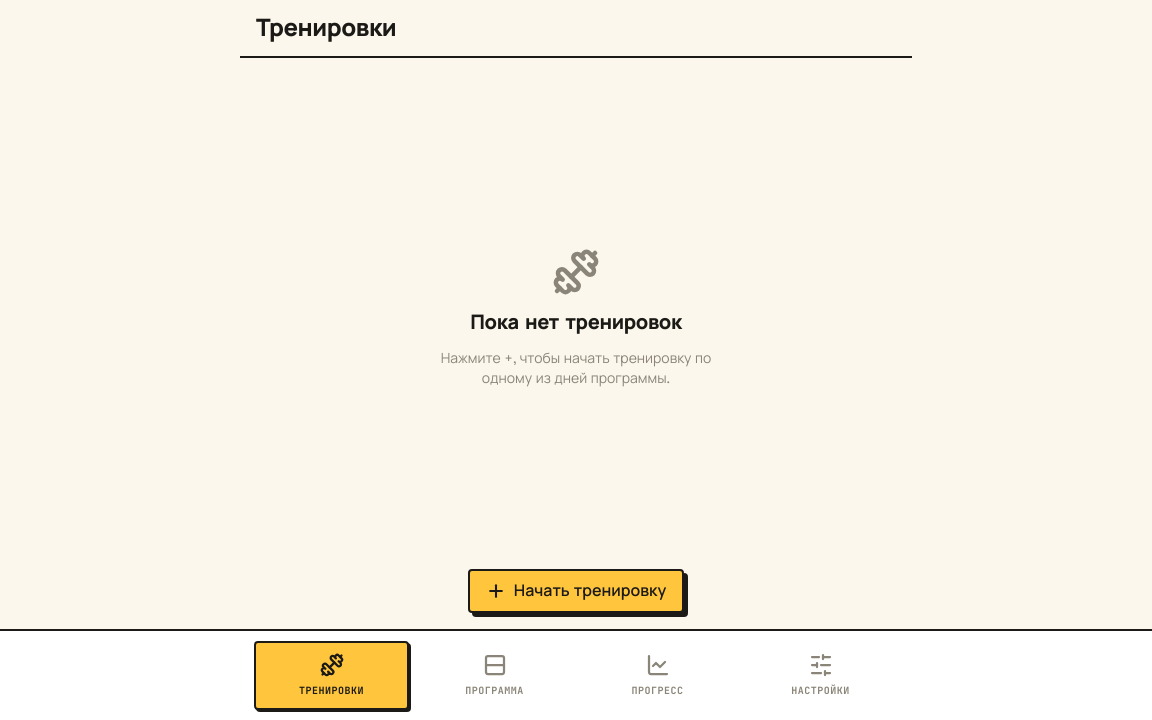
Scenario: Inline workout loop › starts a session, logs a set and marks it done
This screenshot has width=1152, height=720.
Click the button "Начать тренировку". click: (576, 591)
box: [468,569,684,613]
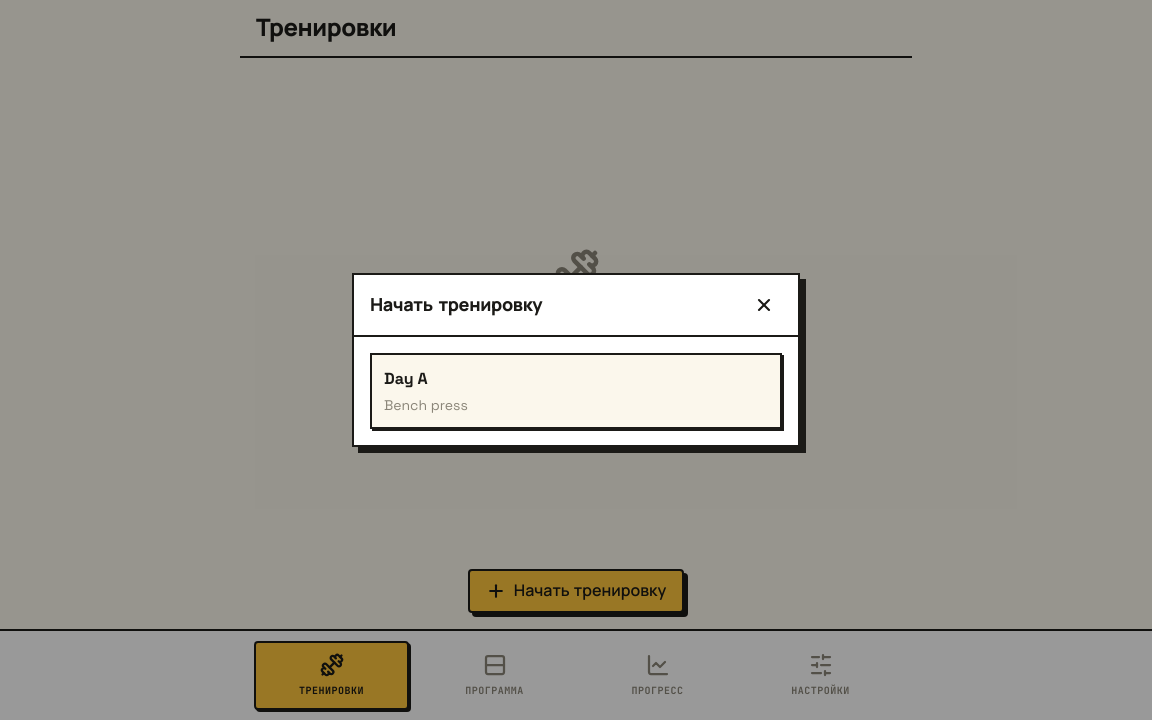
Click the button "Day A Bench press". click: (406, 378)
box: [370,353,782,429]
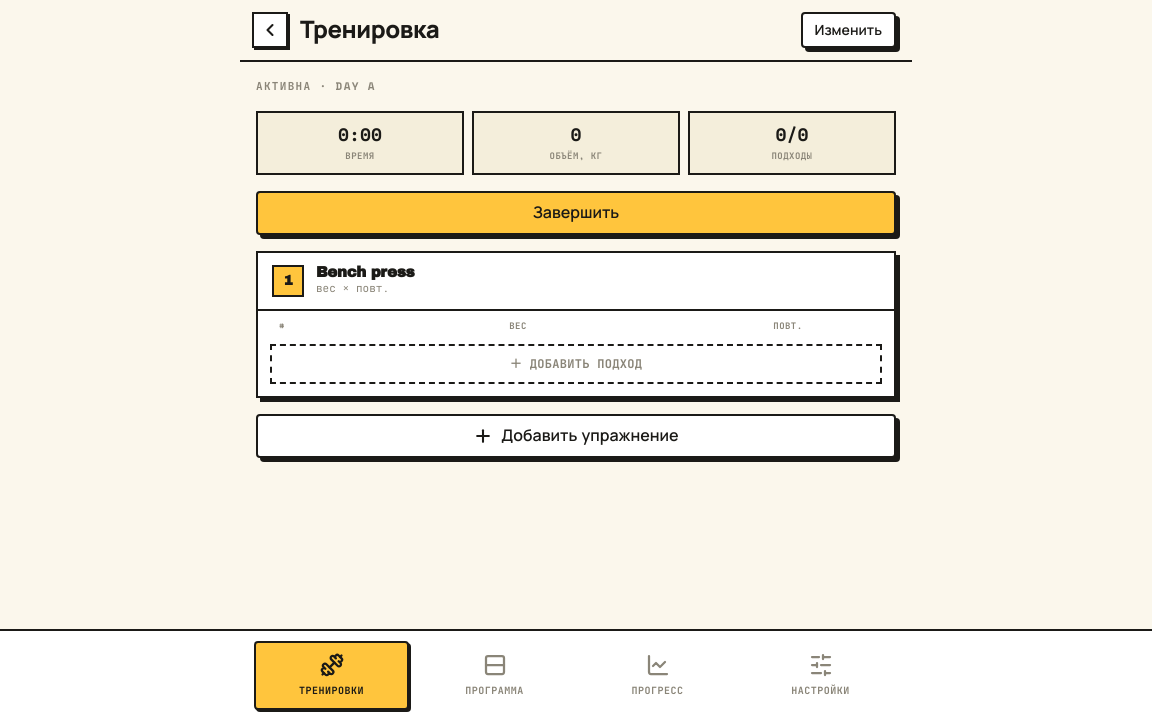
Check: the text "Bench press" is shown, box [316,264,414,280]
Check: the dialog is gone
Click the button "＋ Добавить подход". click: (576, 364)
box: [270,344,882,384]
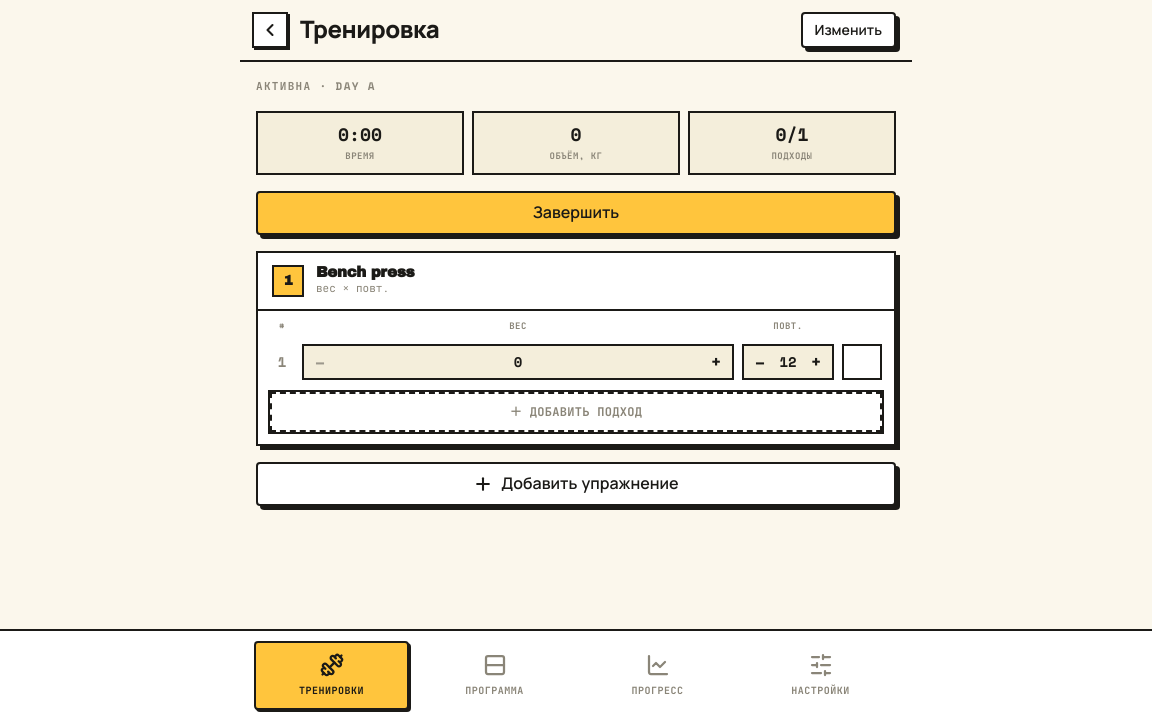
Check: the text "0/1" is shown, box [776,120,809,146]
Click the button named "Отметить подход выполненным". click: (862, 362)
box: [842,344,882,380]
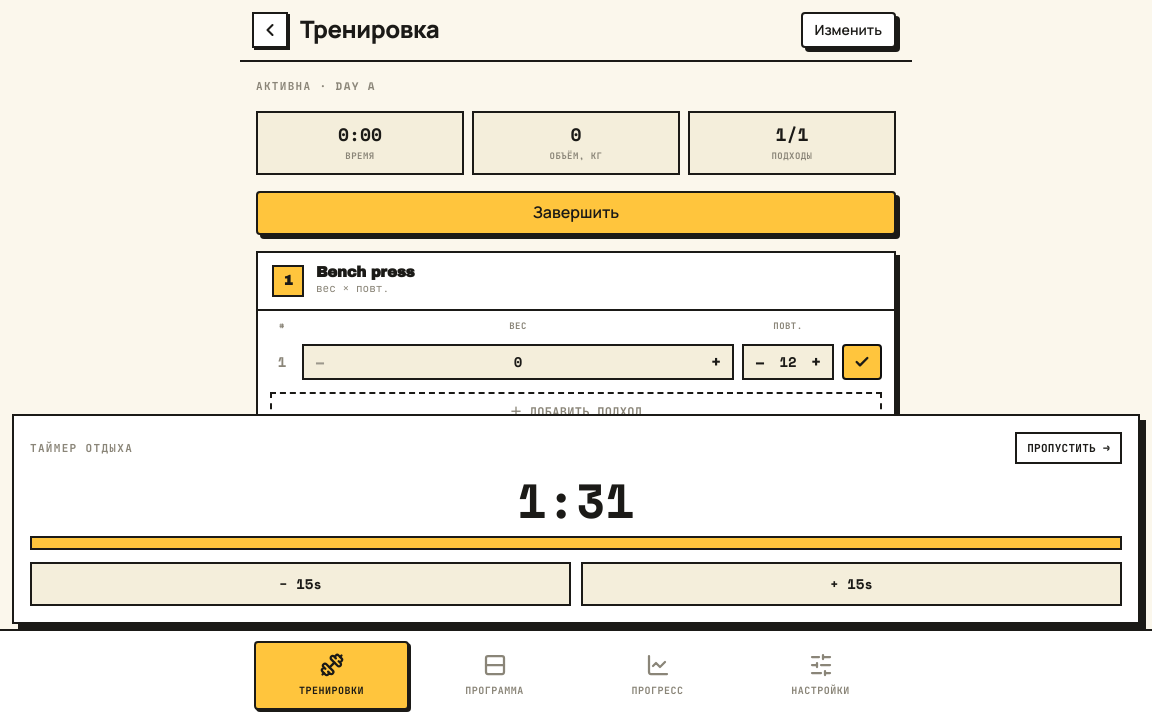
Check: the text "1/1" is shown, box [776,120,809,146]
